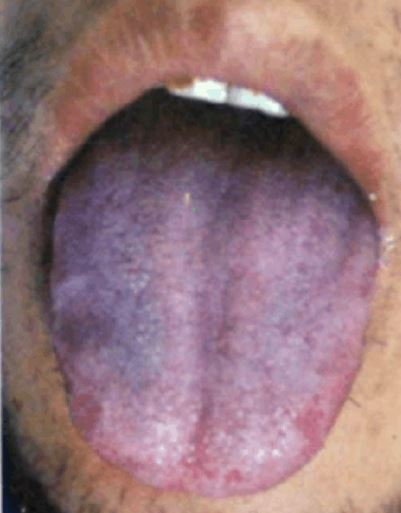zishe: (49, 101, 378, 496)
